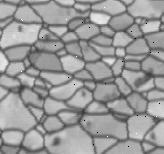good_void: (132, 68, 154, 90), (99, 86, 118, 102), (50, 136, 64, 148), (148, 131, 163, 142), (151, 115, 162, 125), (42, 32, 52, 42), (35, 92, 46, 101), (84, 117, 93, 127), (81, 89, 89, 97), (18, 25, 24, 35)
